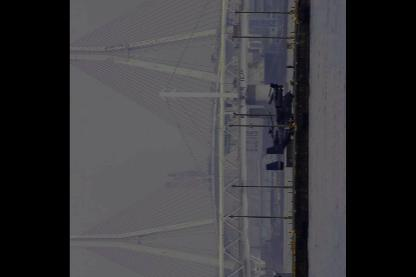Tornado: (264, 83, 292, 172)
